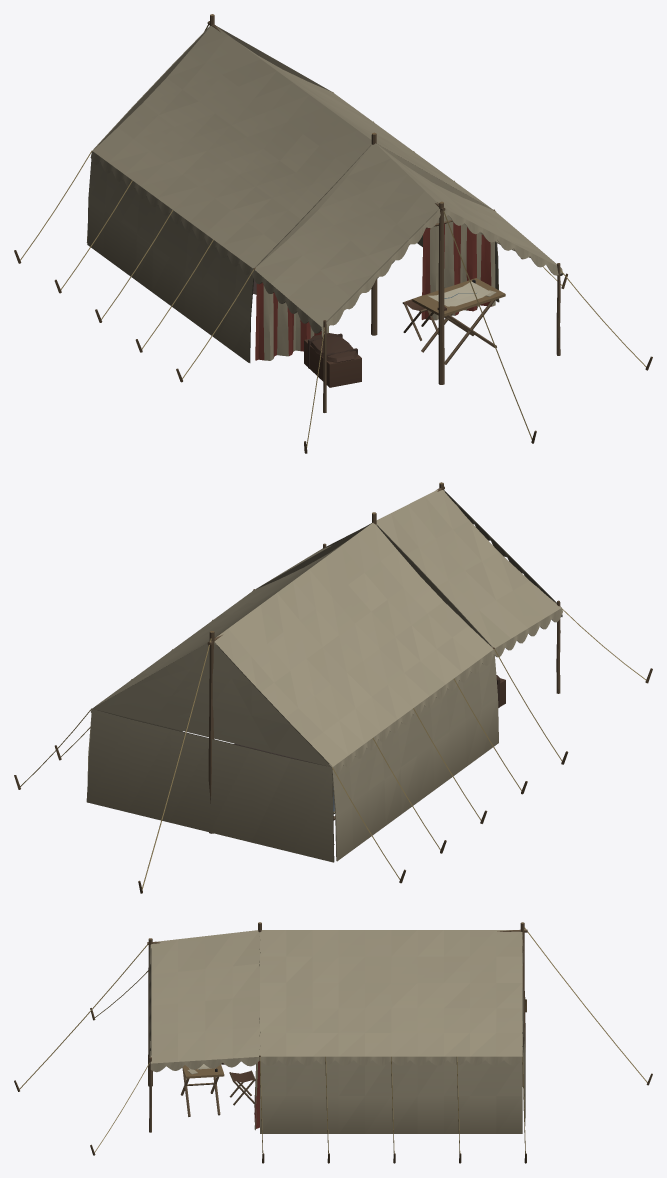
The model's file is carpa_comando.glb.
The picture shows the model from 3 angles, top to bottom: view 1: azimuth 30°, elevation 25°; view 2: azimuth 150°, elevation 25°; view 3: azimuth 270°, elevation 25°; orthographic projection. The views are drawn at different scales.
Parts seen in each view (by area): view 1: CarpaComando; view 2: CarpaComando; view 3: CarpaComando.
Boxes of the visible parts, x1,y1,x2,y2 form: CarpaComando: [14, 14, 652, 453]; CarpaComando: [14, 482, 652, 893]; CarpaComando: [14, 922, 652, 1163].
Size of what is drawn, in the model's own units: 5.87 by 2.91 by 10.22.
